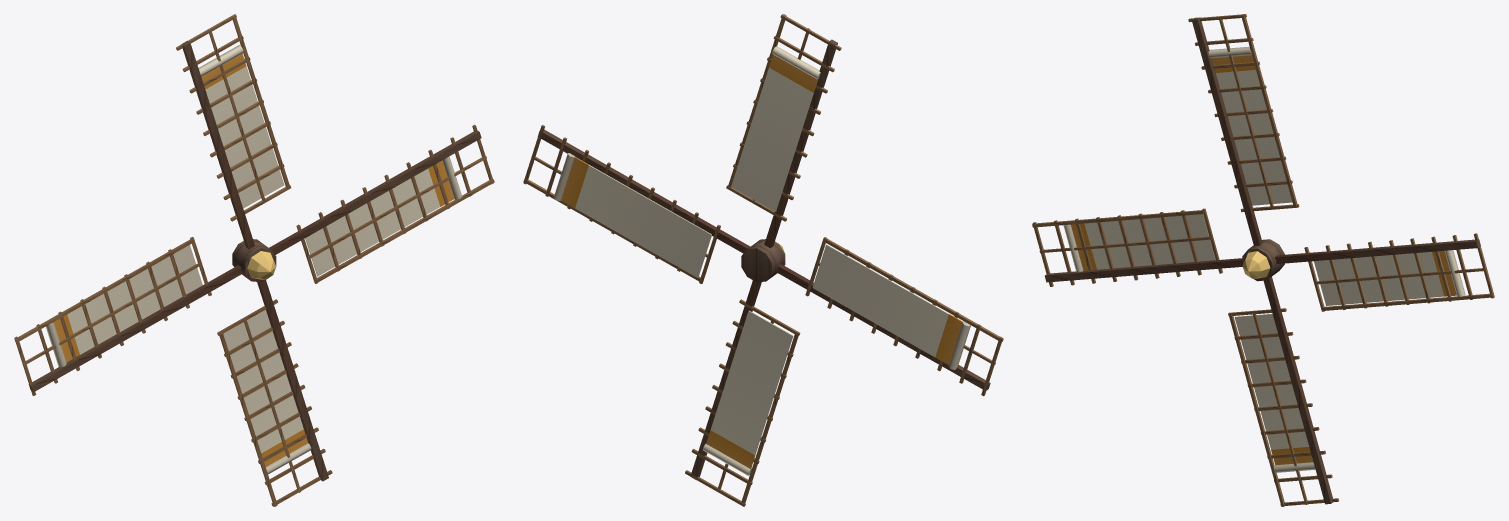
File: moinho.glb
The picture shows the model from 3 angles, left to right: view 1: azimuth 30°, elevation 25°; view 2: azimuth 150°, elevation 25°; view 3: azimuth 330°, elevation 25°; orthographic projection. The views are drawn at different scales.
Parts seen in each view (by area): view 1: moinho; view 2: moinho; view 3: moinho.
Boxes of the visible parts, bbox=[...] form: moinho: bbox=[14, 14, 494, 506]; moinho: bbox=[523, 14, 1003, 506]; moinho: bbox=[1032, 14, 1494, 506].
Size of the model in its own units: 14.7 by 14.7 by 1.2.
Materials: 3 (2 with a texture image).
